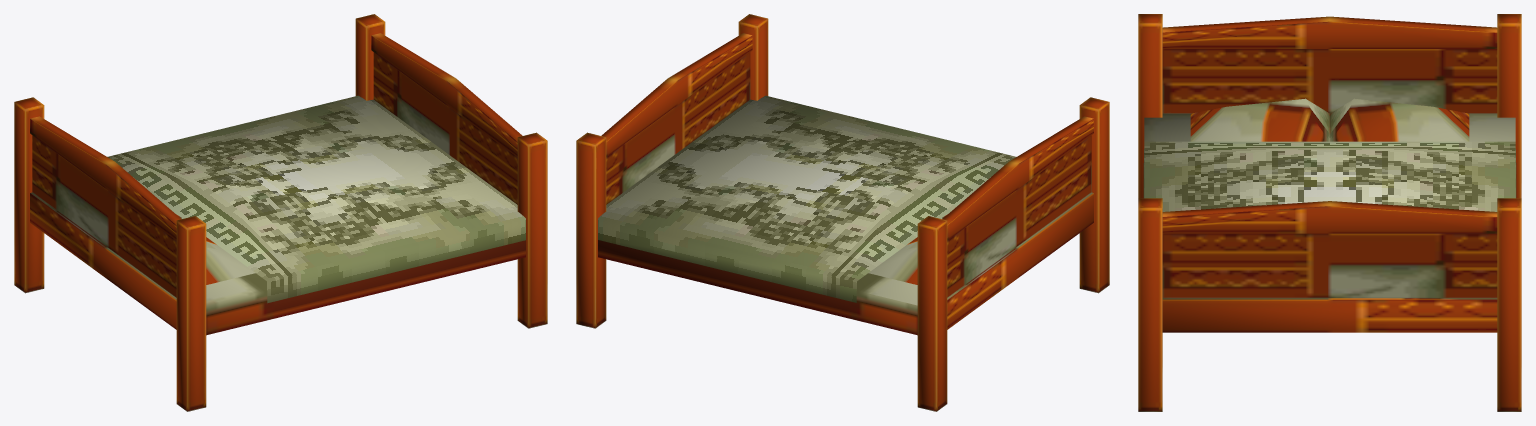
The model's file is rmk_asi_bedW.dae.
The picture shows the model from 3 angles, left to right: view 1: azimuth 30°, elevation 25°; view 2: azimuth 150°, elevation 25°; view 3: azimuth 270°, elevation 25°; orthographic projection. The views are drawn at different scales.
Visible parts, largest first — view 1: rmk_asi_bedW; view 2: rmk_asi_bedW; view 3: rmk_asi_bedW.
Boxes of the visible parts, <box> form: rmk_asi_bedW: <box>14,14,547,411</box>; rmk_asi_bedW: <box>576,14,1109,411</box>; rmk_asi_bedW: <box>1138,14,1521,411</box>.
Size of the model in its own units: 60.8 by 29.6 by 50.6.
2 materials, 2 textured.
